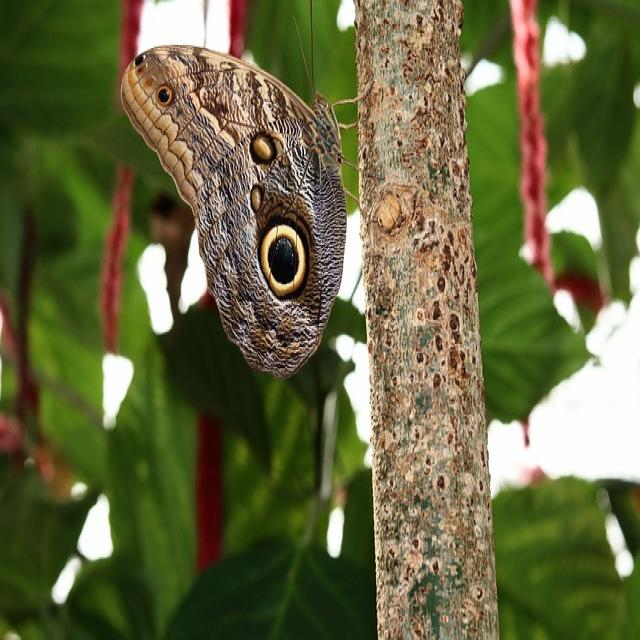butterfly: (117, 45, 354, 383)
